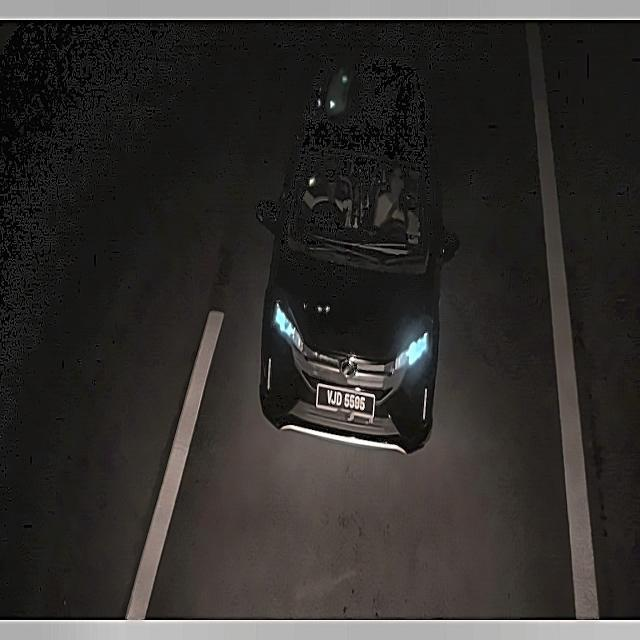car: (312, 375, 380, 425)
